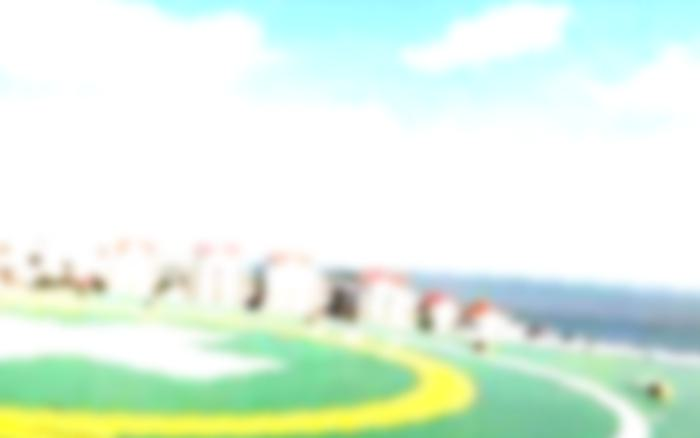Apron: (2, 268, 483, 431)
